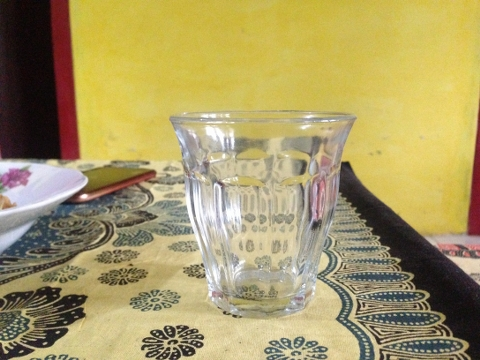tempat minum: (170, 111, 358, 318)
